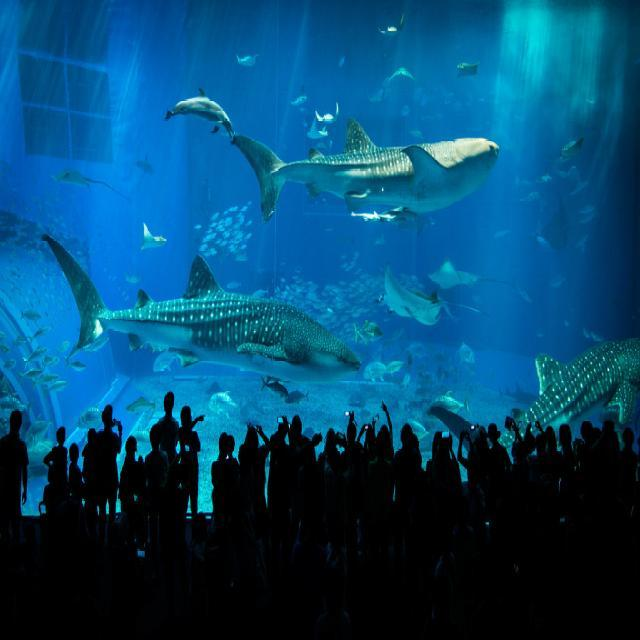Shark: (30, 218, 382, 396)
